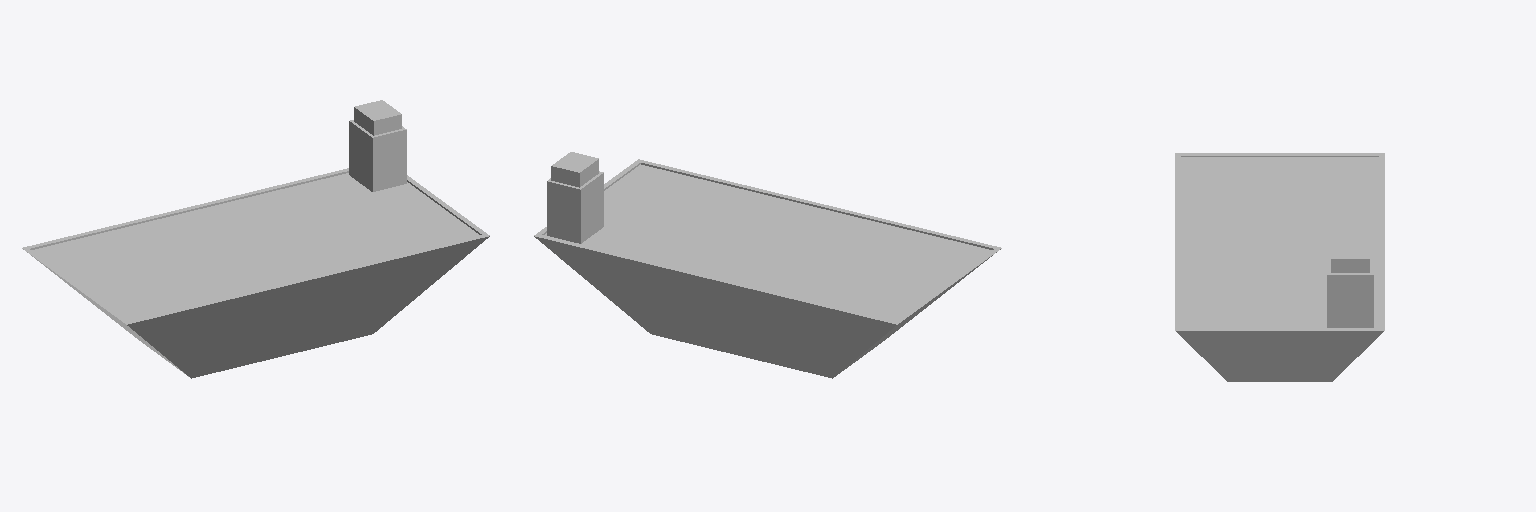
The model's file is Station.obj.
3 views of the same model, side by side, from view 1: azimuth 30°, elevation 25°; view 2: azimuth 150°, elevation 25°; view 3: azimuth 270°, elevation 25° (orthographic).
Visible parts, largest first — view 1: Cube; view 2: Cube; view 3: Cube.
Boxes of the visible parts, box(x1,y1,x2,y2) form: Cube: box(22, 100, 489, 378); Cube: box(534, 152, 1001, 378); Cube: box(1175, 153, 1384, 381).
Bounding box in the file's own units: 4 × 1.71 × 2.